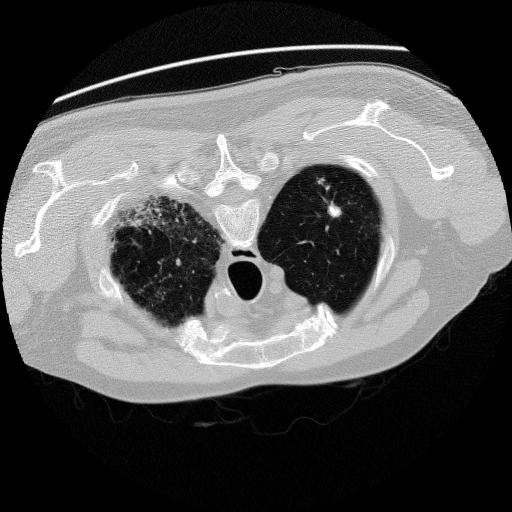nodule: (321, 199, 346, 224)
